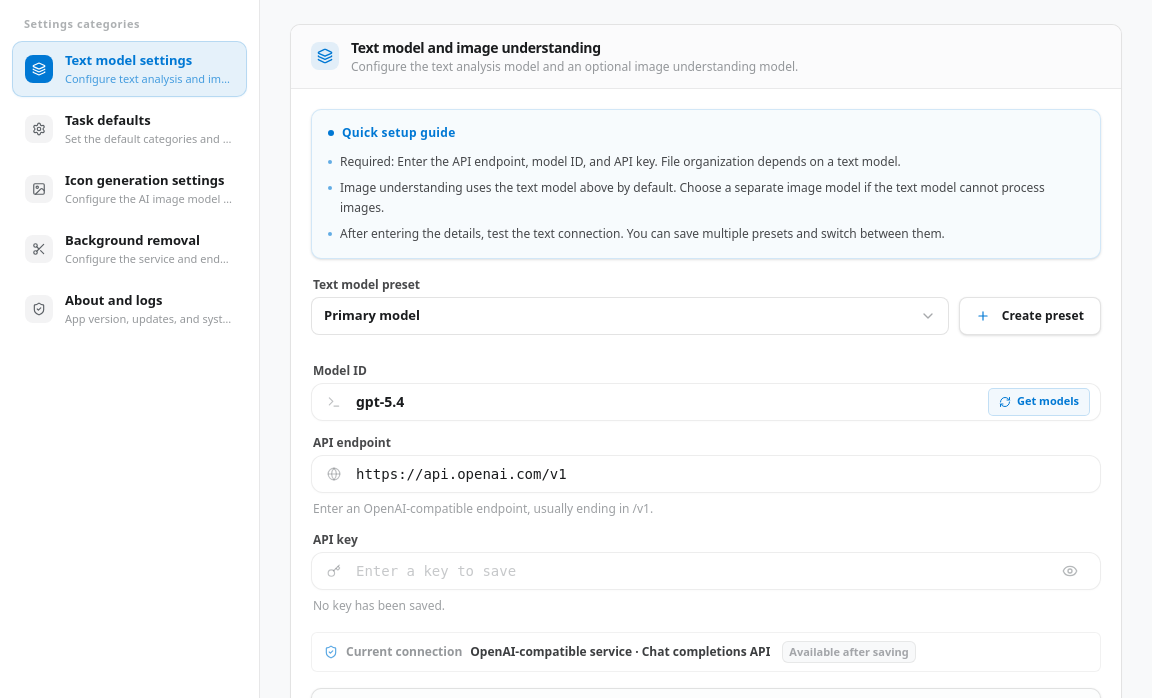
SettingsPage preset flow › localizes the confirmation shown before switching presets with unsaved changes
Check: the text "Settings categories" is shown, box left=24, top=16, right=140, bottom=31
Step 1. Type "gpt-5.4-mini" into the field showing "gpt-5.4" → (667, 402), box left=356, top=384, right=978, bottom=420
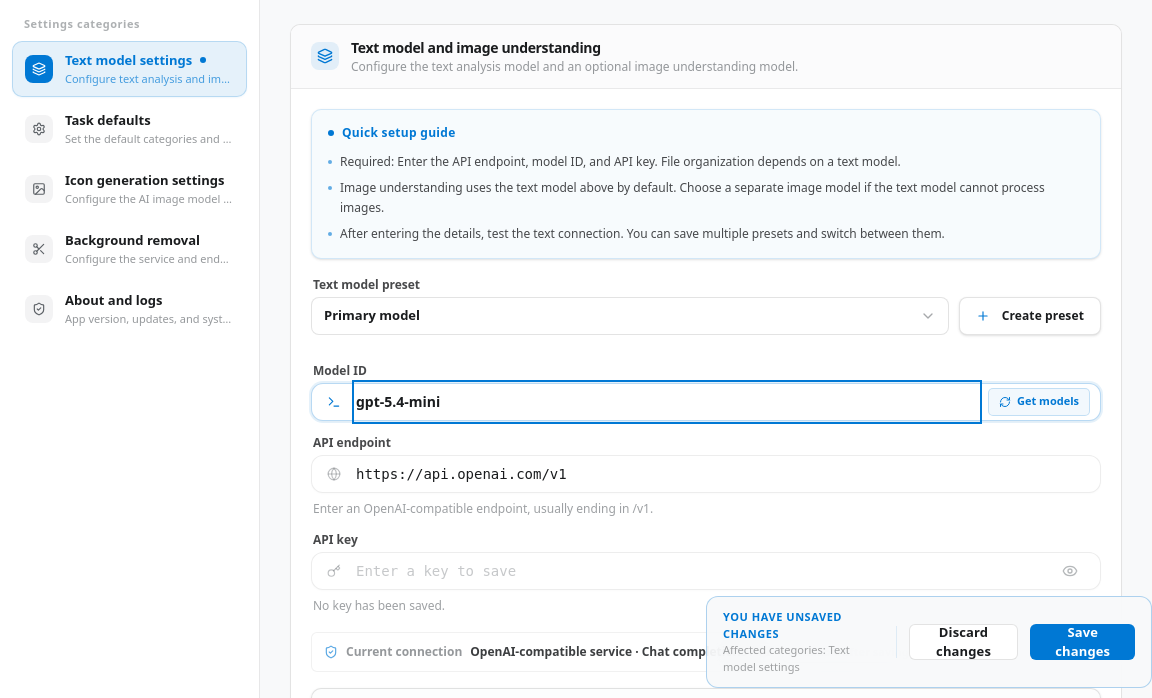
Step 2. Click the button "Primary model" → (372, 315), box left=311, top=296, right=949, bottom=334
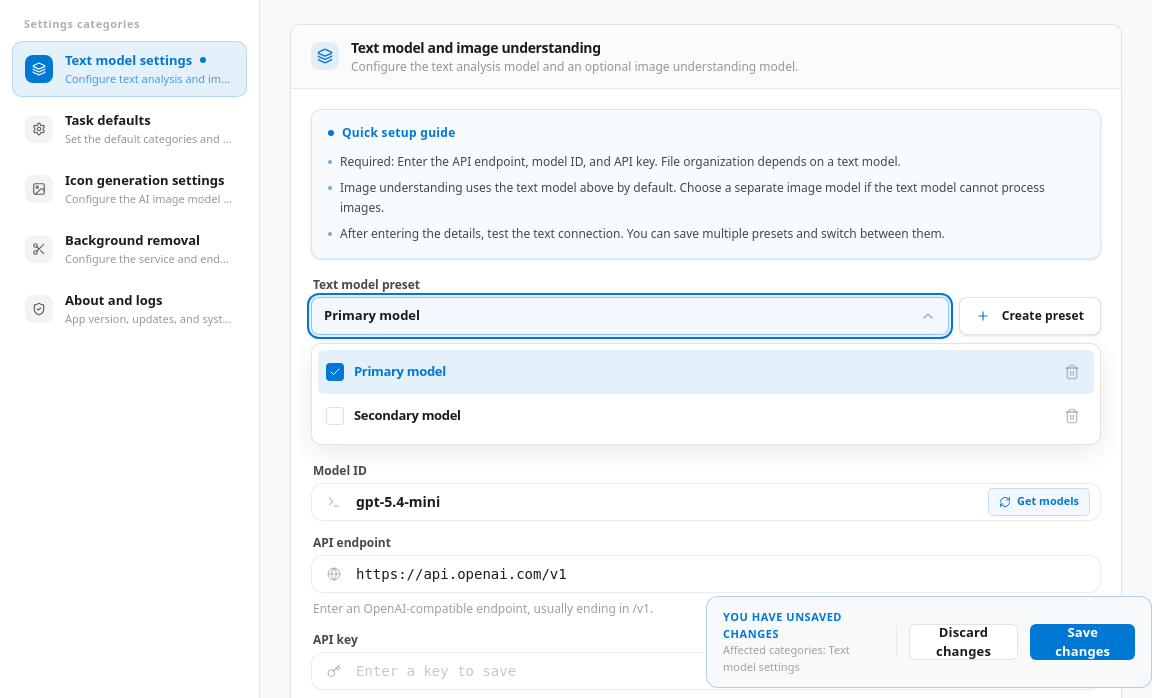
Step 3. Click the option "Secondary model" → (407, 415), box left=326, top=406, right=1046, bottom=425
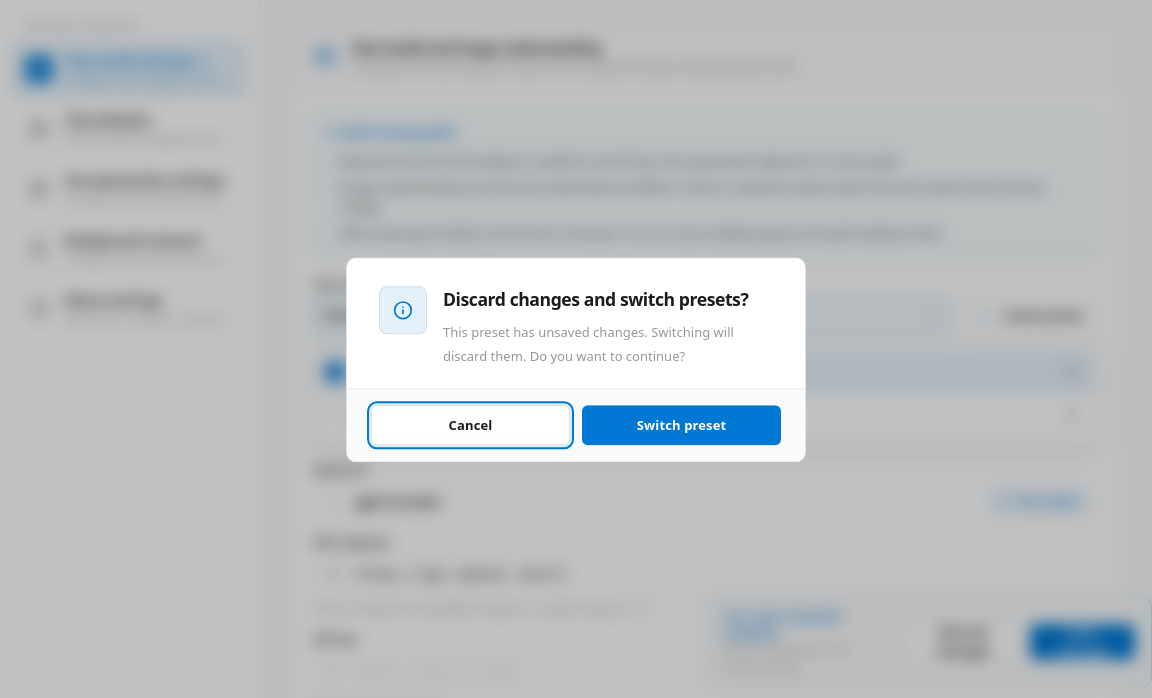
Check: the heading "Discard changes and switch presets?" is shown, box left=443, top=286, right=773, bottom=313
Check: the text "This preset has unsaved changes. Switching will discard them. Do you want to continue?" is shown, box left=443, top=324, right=734, bottom=366
Check: the button "Switch preset" is shown, box left=582, top=406, right=781, bottom=446
